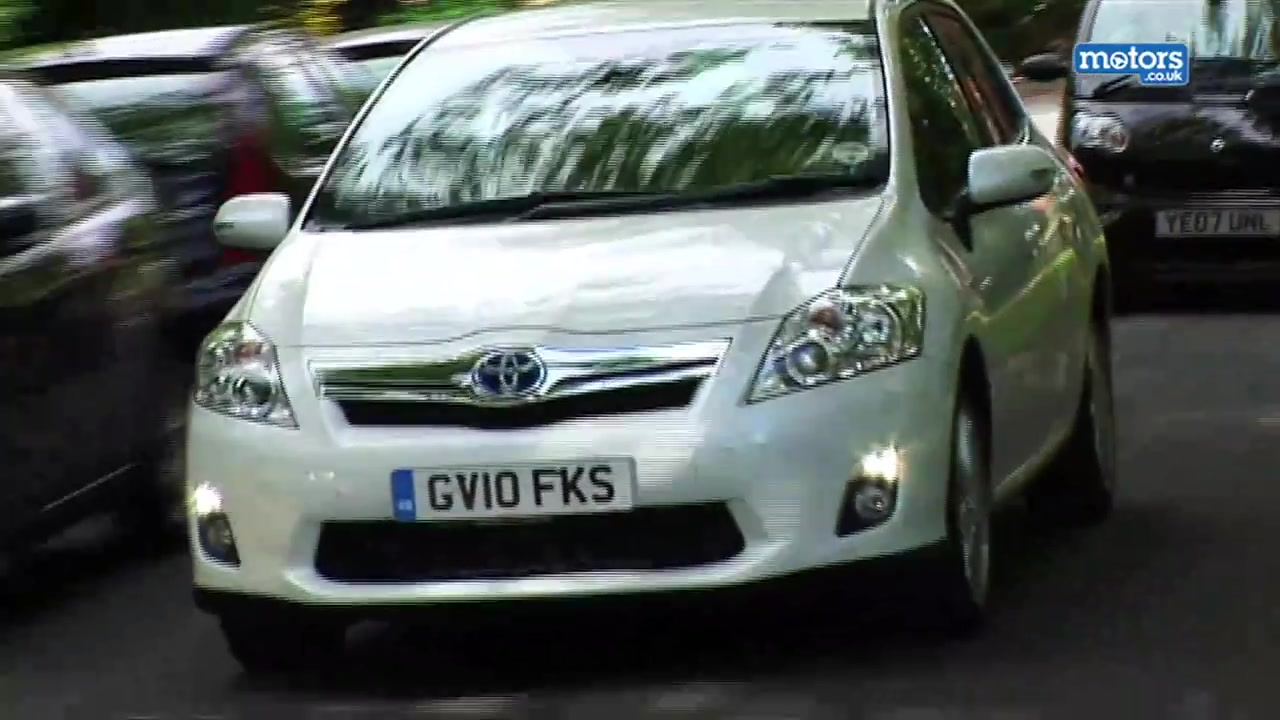car: (184, 1, 1121, 680), (2, 21, 379, 353), (1, 64, 175, 622), (1016, 1, 1280, 312), (319, 17, 457, 110)
